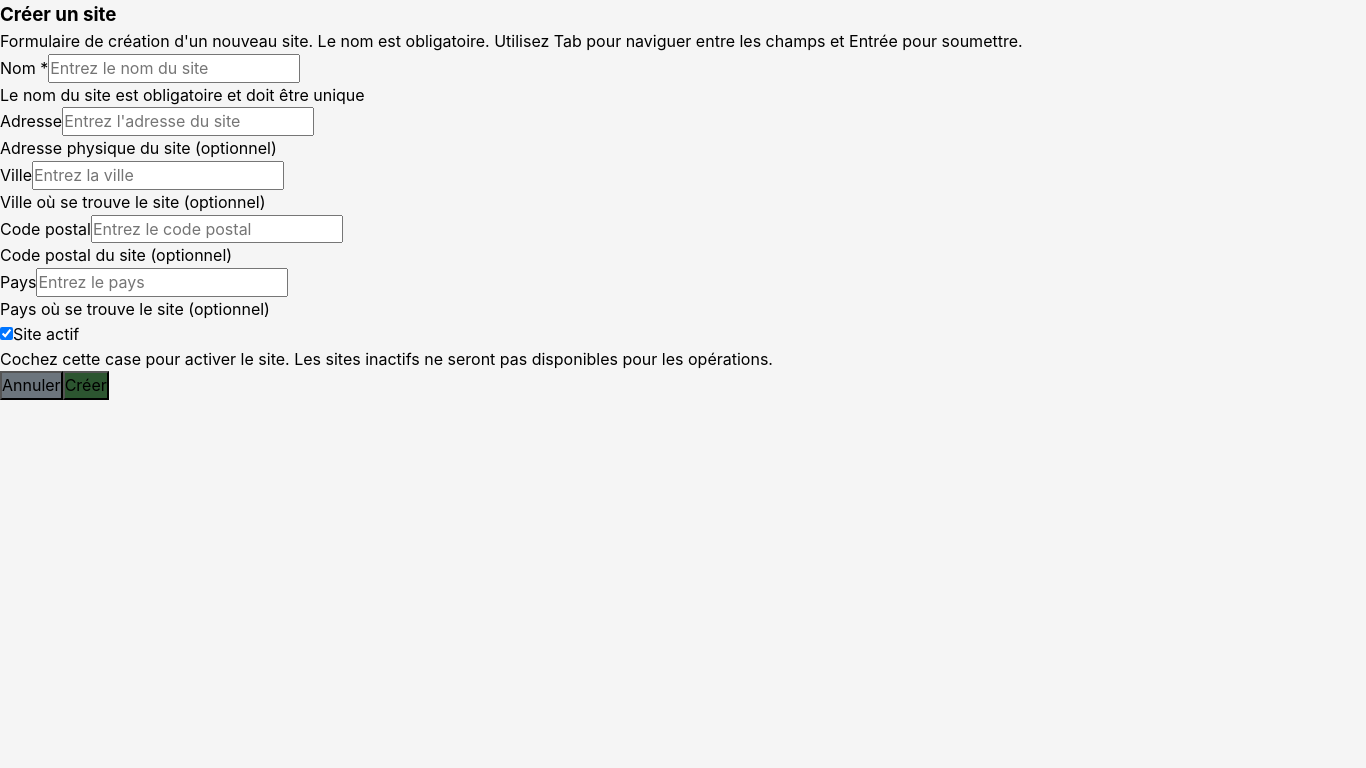
SiteForm Component › Error Handling › should display API error messages
// Fill and submit form
In the field labelled "Nom *": (174, 68) [48, 54, 300, 83], type "Duplicate Site"
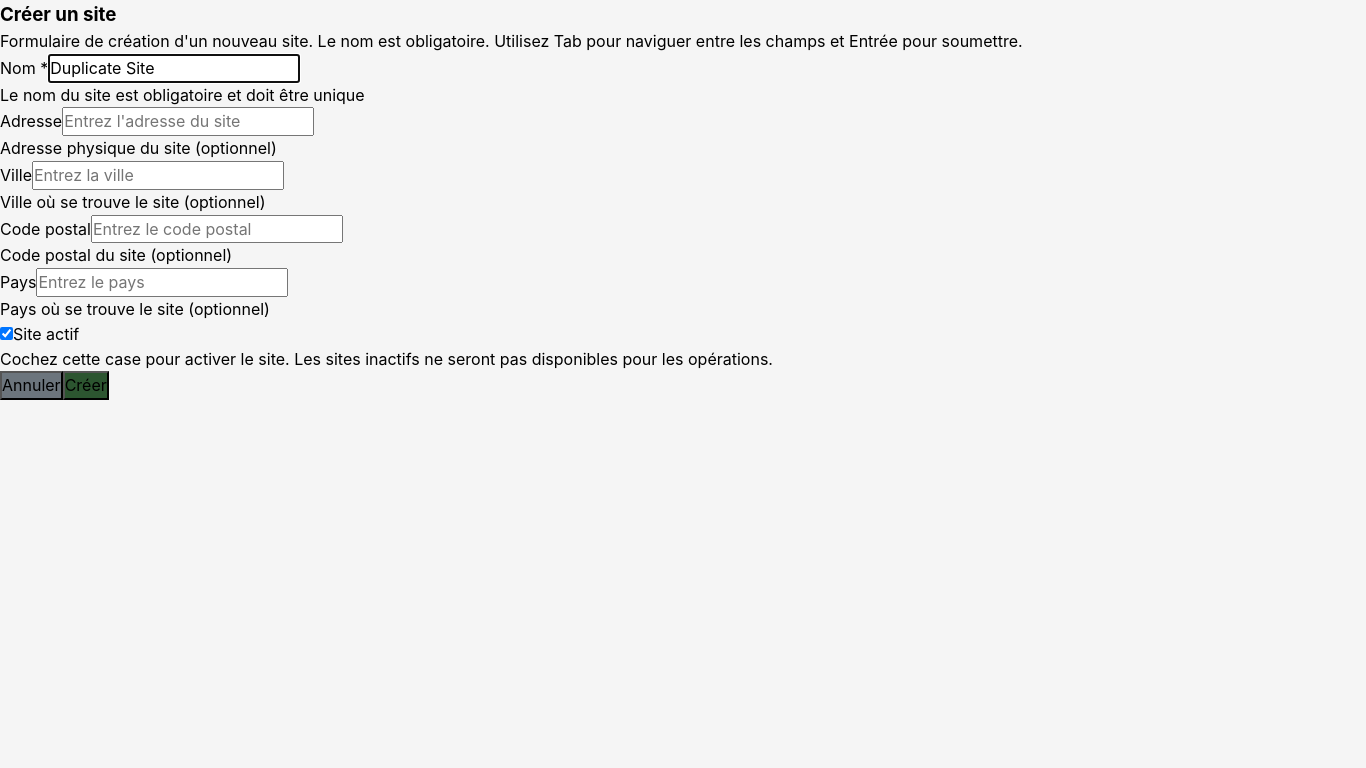
Click the button "Créer": click(86, 386) [63, 371, 109, 400]
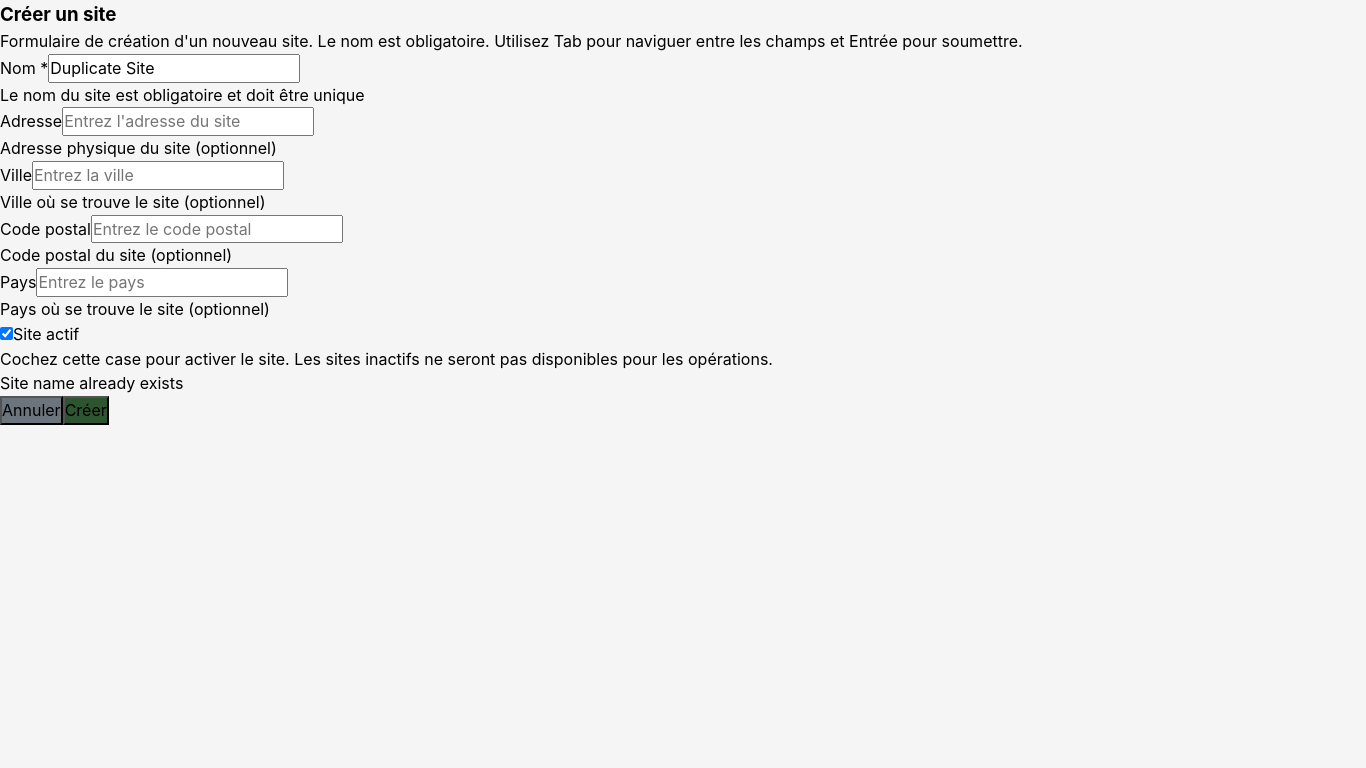
Expected: the text "Site name already exists" is shown, [0, 373, 183, 393]
